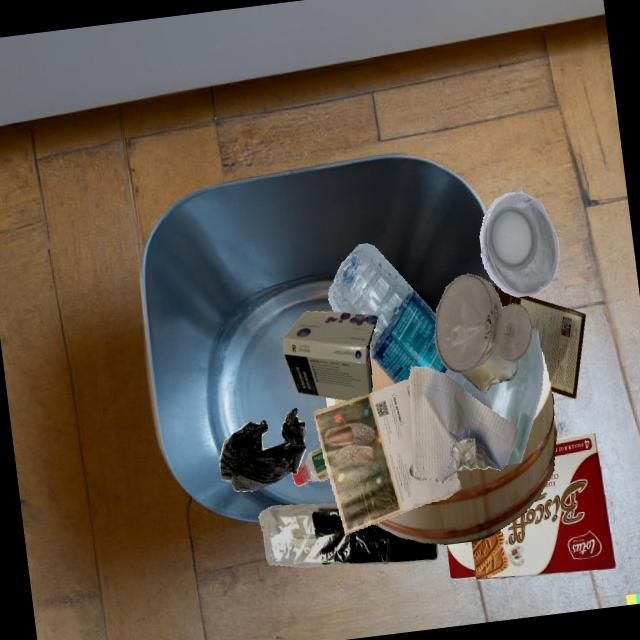cardboard: (446, 431, 615, 580), (492, 285, 585, 398), (283, 311, 377, 400)
combustible waste: (448, 348, 556, 539), (325, 392, 448, 500)
glass: (434, 273, 532, 373), (487, 325, 543, 464), (460, 350, 518, 393)
paper: (313, 378, 461, 534), (409, 366, 517, 484)
plastic: (328, 243, 491, 409), (258, 503, 438, 567), (479, 192, 559, 297), (219, 408, 306, 491), (292, 446, 329, 486), (509, 186, 525, 193)
